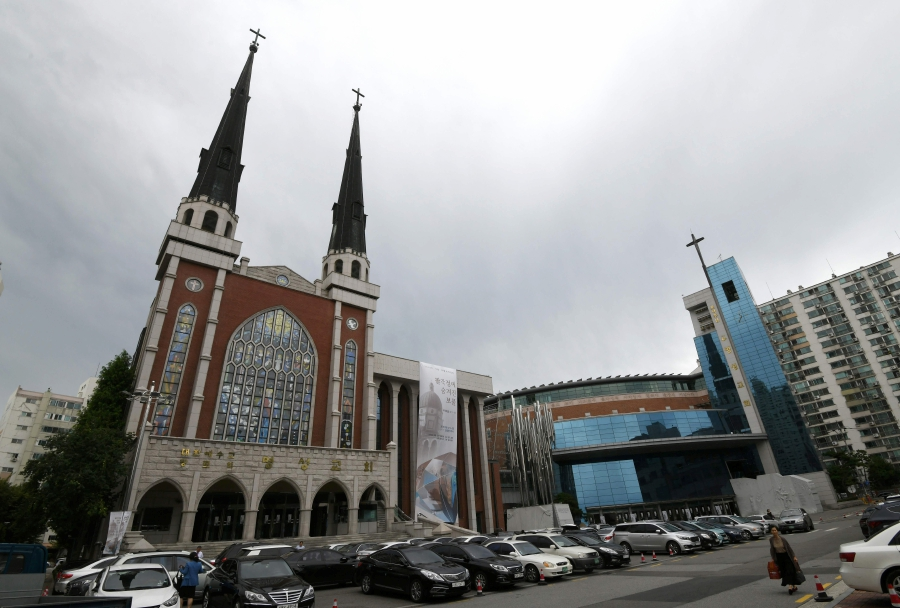Church: (102, 15, 428, 510)
